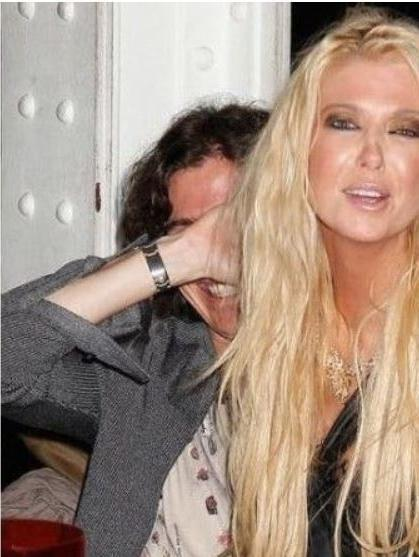Drunk: (313, 54, 419, 237)
